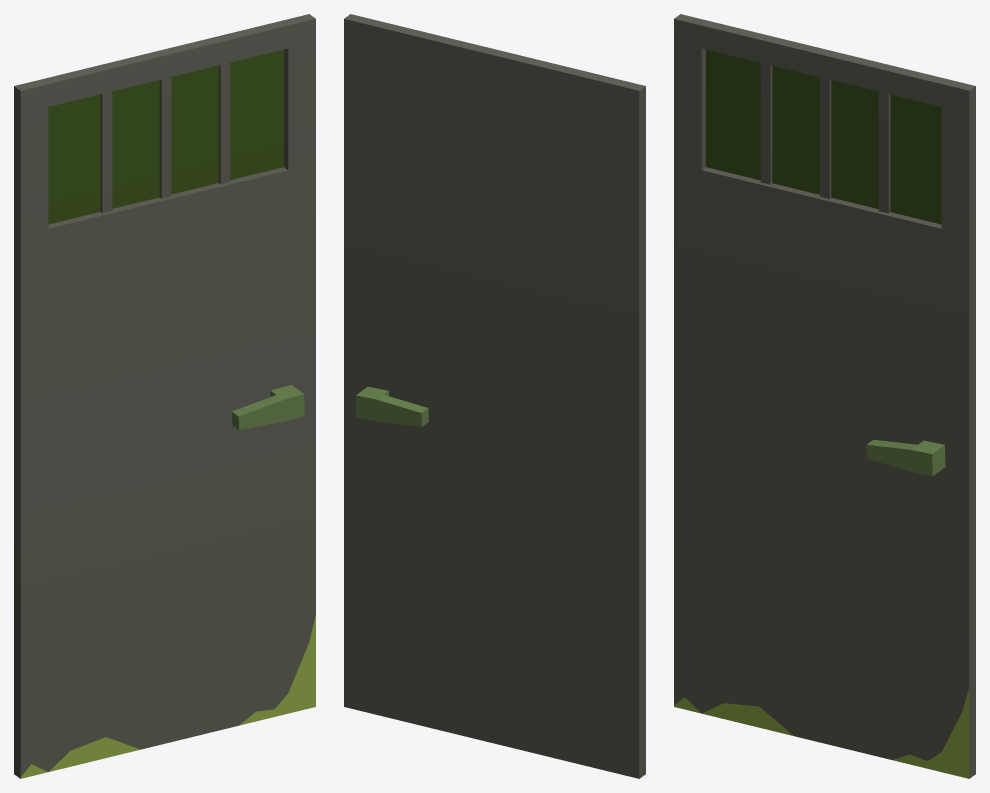
Rendered from House_12_Door01.fbx.
3 renders of one model, left to right at view 1: azimuth 30°, elevation 25°; view 2: azimuth 150°, elevation 25°; view 3: azimuth 330°, elevation 25°, orthographic.
Parts seen in each view (by area): view 1: House_12_Door01; view 2: House_12_Door01; view 3: House_12_Door01.
Part boxes in pixels (x1=…): House_12_Door01: x1=14, y1=14, x2=315, y2=778; House_12_Door01: x1=344, y1=14, x2=645, y2=778; House_12_Door01: x1=674, y1=14, x2=975, y2=778.
Bounding box in the file's own units: 0.9 × 2 × 0.1656.
